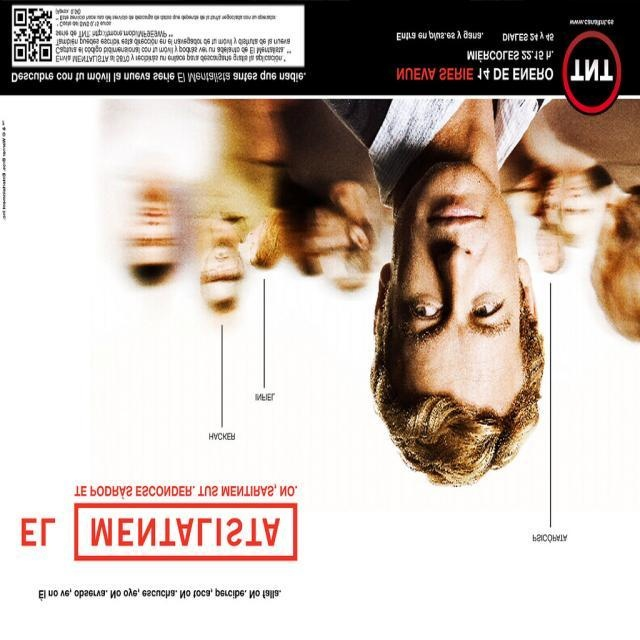qr-code: (13, 9, 52, 62)
